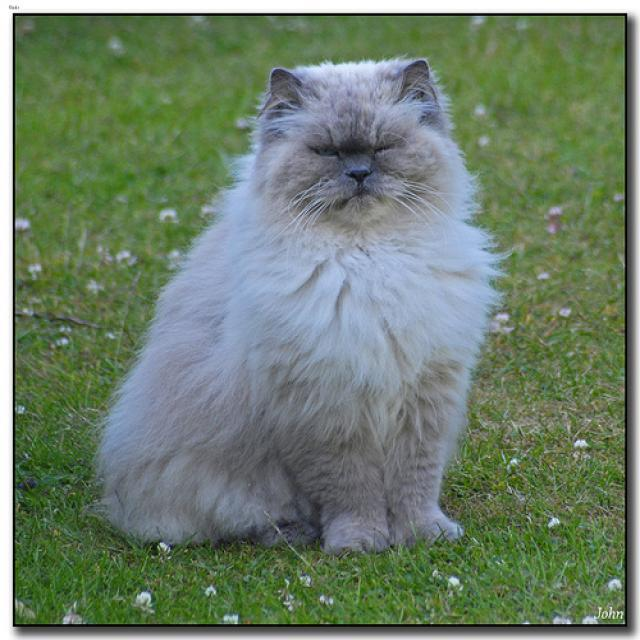Persian: (268, 57, 438, 222)
